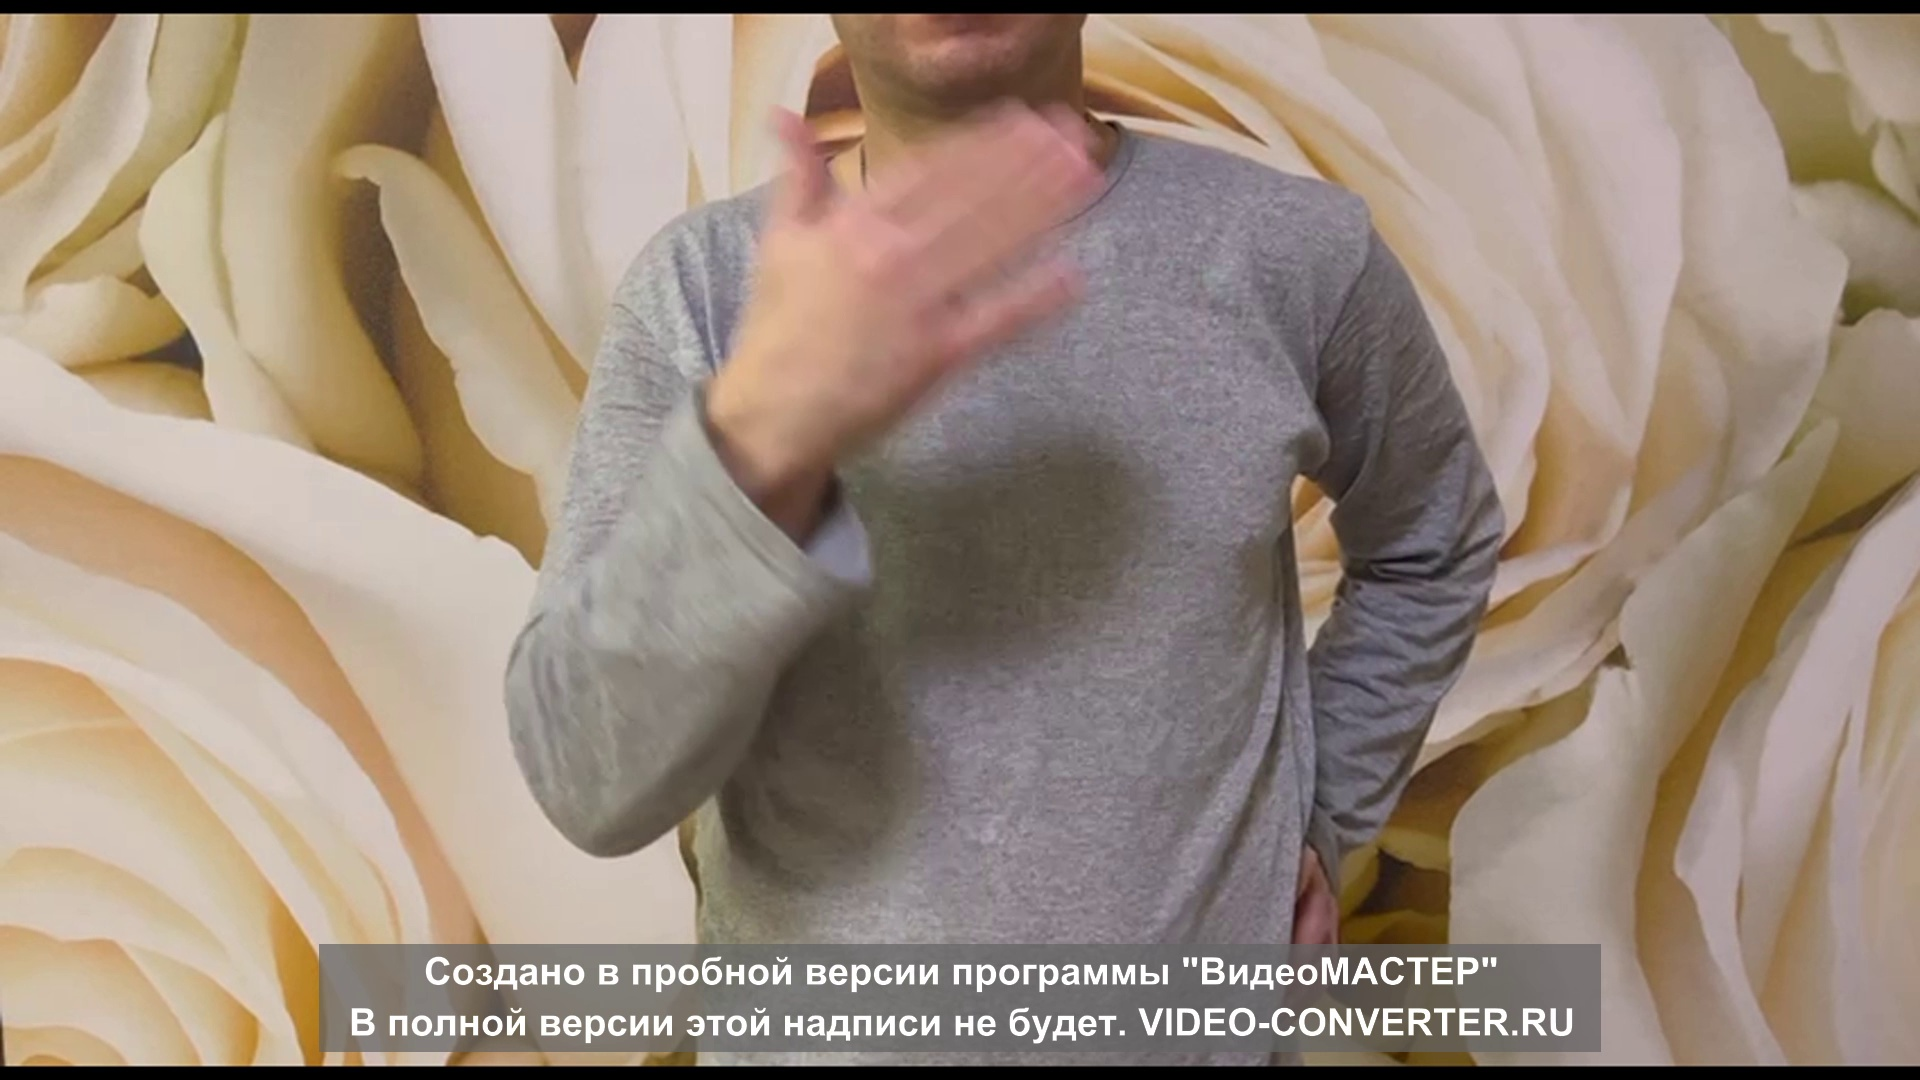Кисть: (724, 102, 1101, 467)
